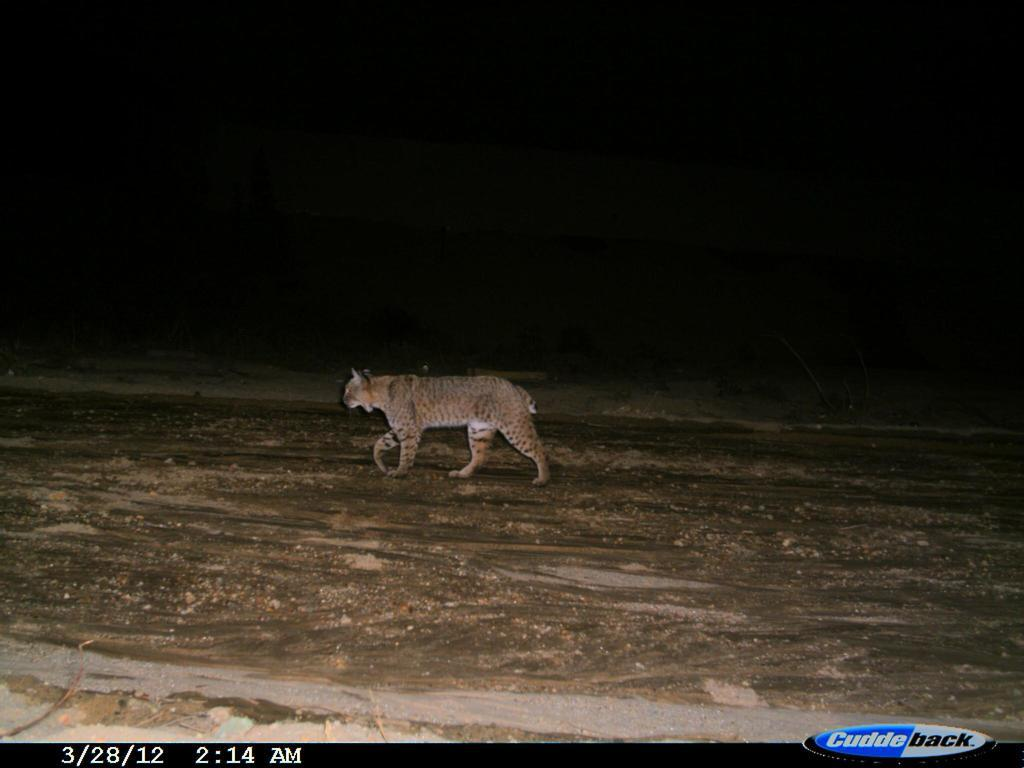bobcat: (328, 354, 569, 497)
